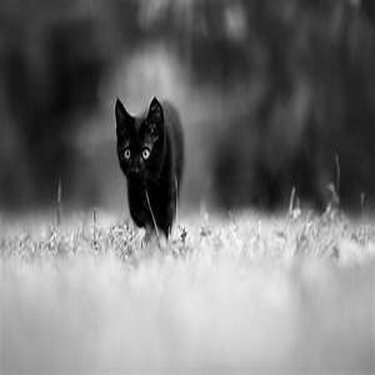cat: (110, 91, 185, 246)
